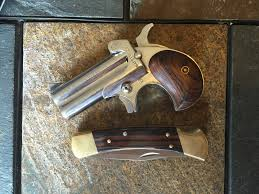gun: (52, 23, 207, 121)
